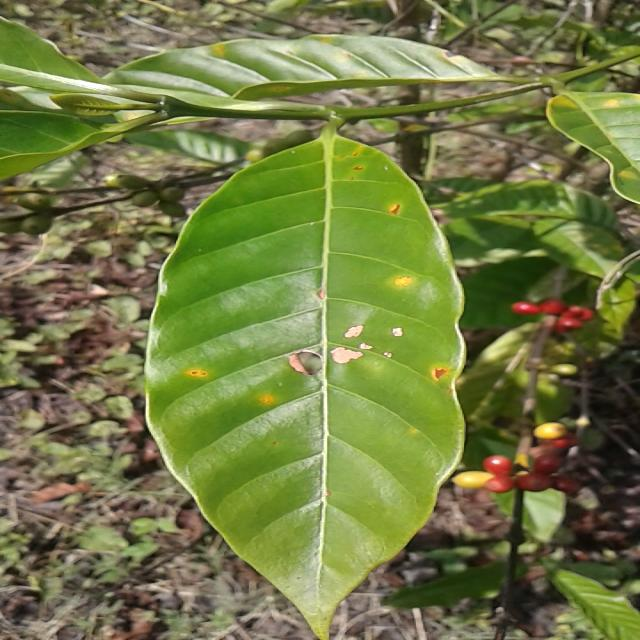Plaga-AranaRoja: (141, 128, 467, 640)
